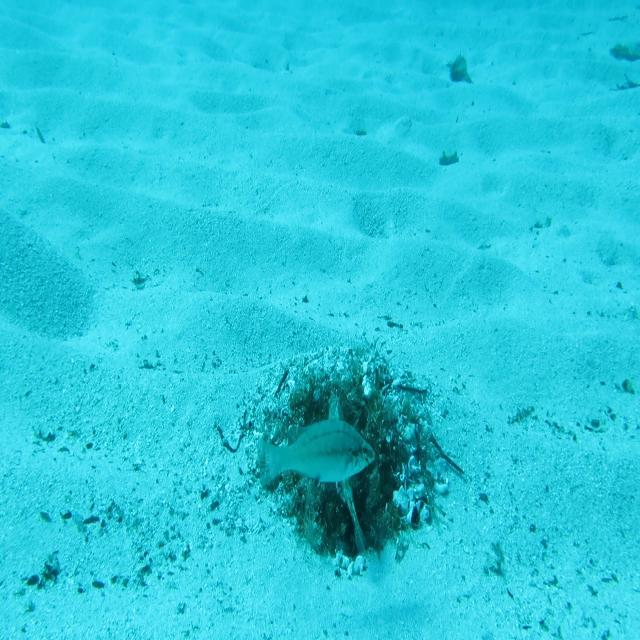ROLL: (327, 386, 369, 560)
core_nest: (315, 393, 359, 426)
female: (253, 416, 376, 492)
nest: (238, 334, 452, 592)
vegetation: (609, 13, 640, 93), (444, 50, 473, 86), (440, 146, 461, 171)
